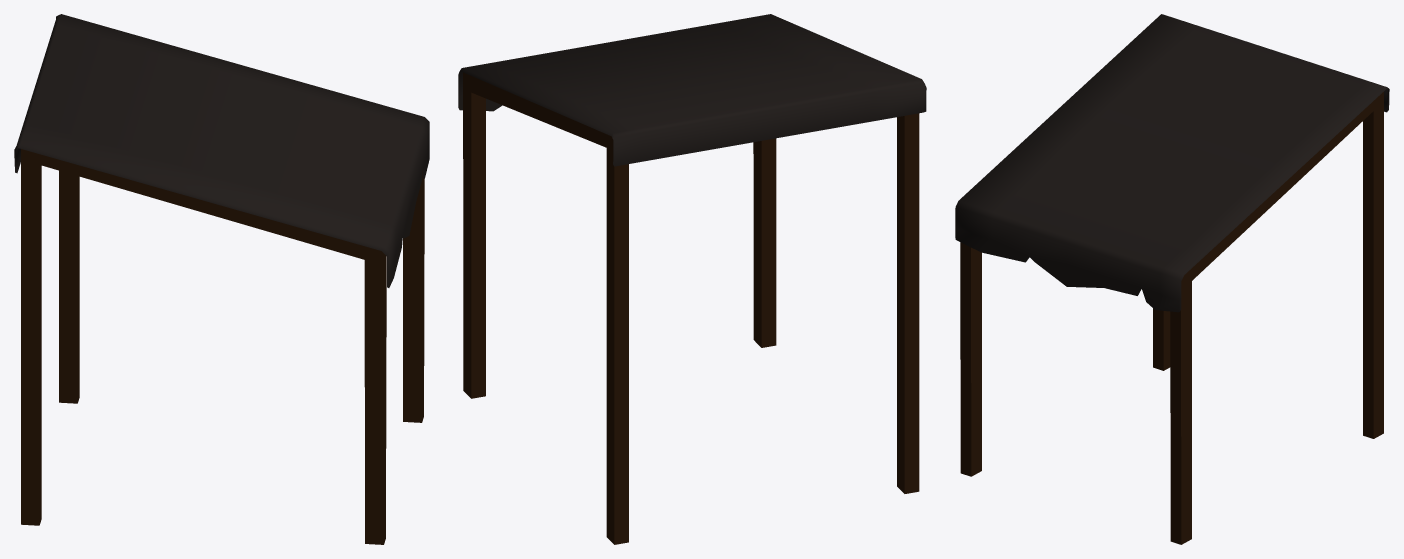
File: Barraca.gltf
3 renders of one model, left to right at view 1: azimuth 30°, elevation 25°; view 2: azimuth 150°, elevation 25°; view 3: azimuth 270°, elevation 25°, orthographic. The views are drawn at different scales.
Visible parts, largest first — view 1: Tenda; view 2: Tenda; view 3: Tenda.
Part boxes in pixels (<box>): Tenda: <box>14,14,429,544</box>; Tenda: <box>458,14,926,544</box>; Tenda: <box>955,14,1389,544</box>.
Bounding box in the file's own units: 1.07 × 0.9222 × 1.05.
